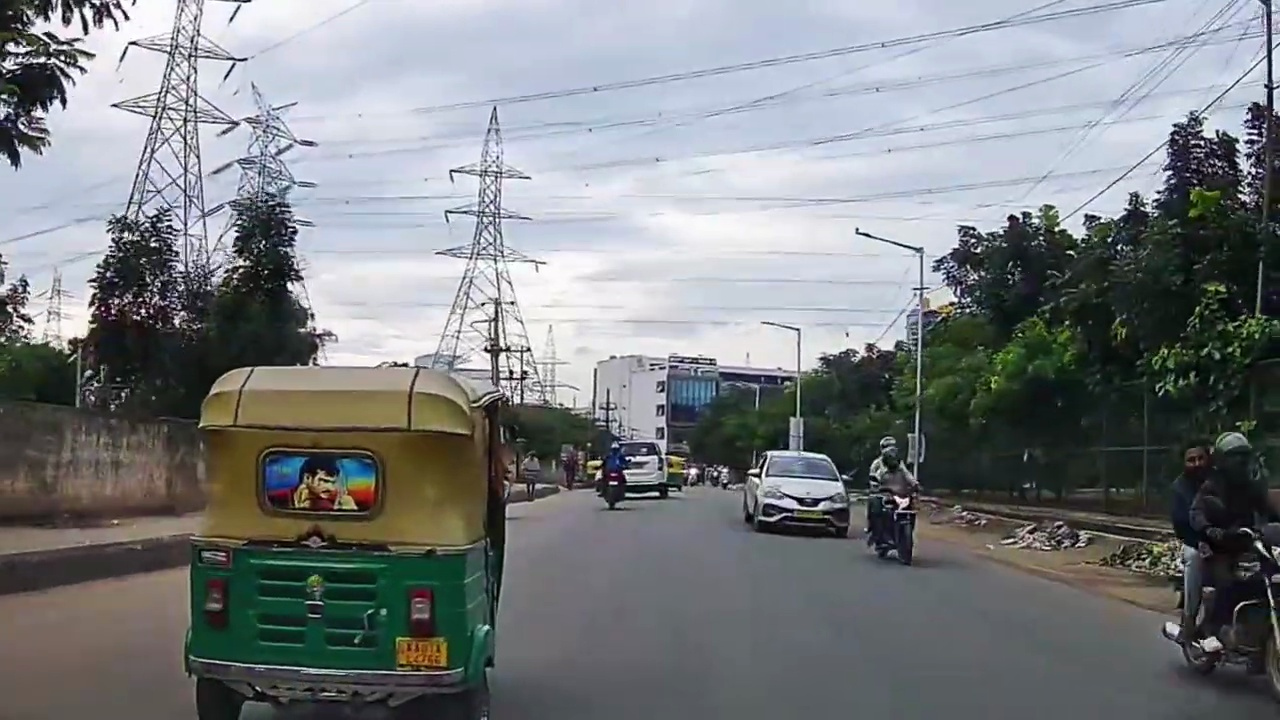garbage: (1100, 525, 1172, 578), (1010, 515, 1075, 551), (943, 498, 986, 531)
